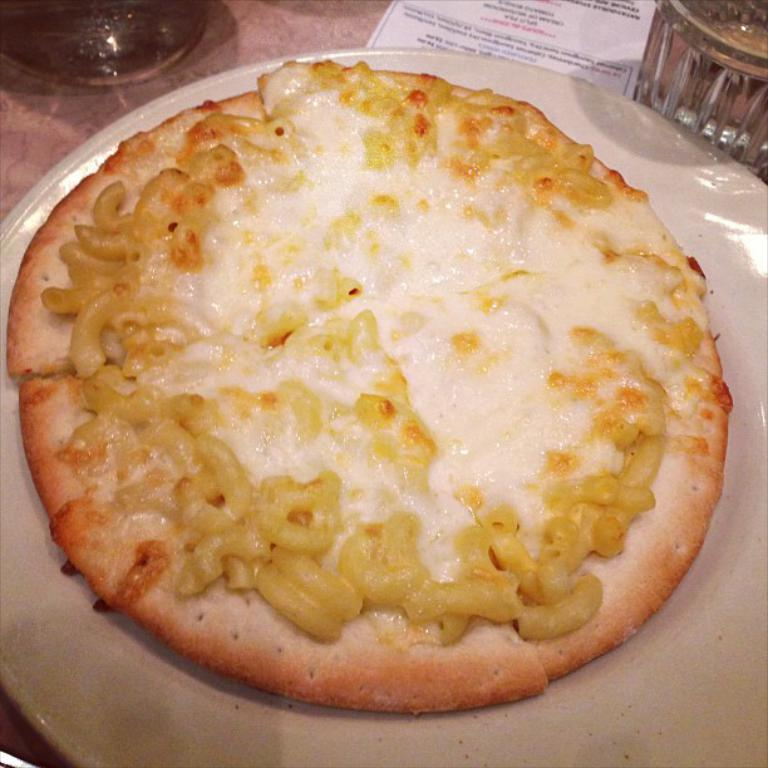Pizza: (0, 56, 730, 722)
